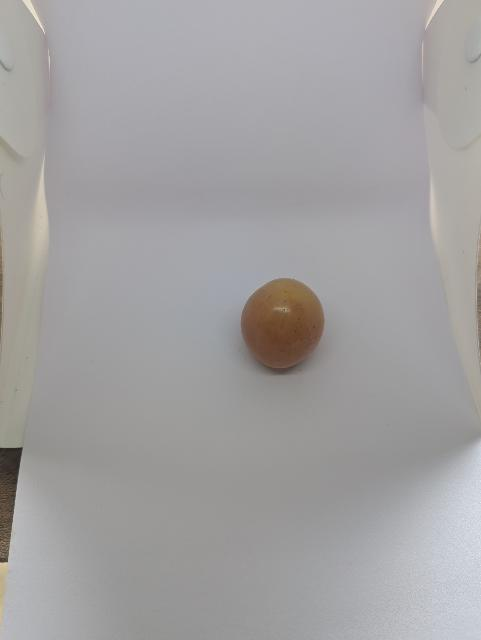turning: (227, 267, 333, 376)
